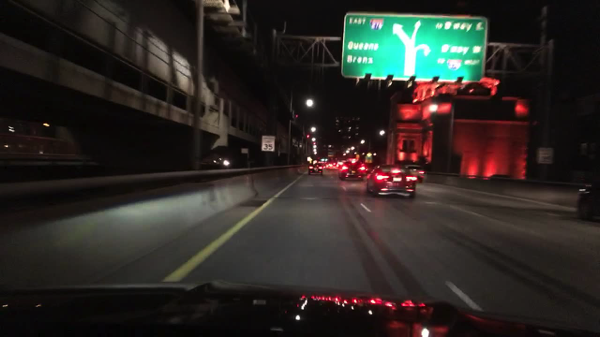car: (365, 164, 418, 200), (574, 178, 599, 223), (198, 151, 235, 170), (338, 159, 365, 182), (403, 164, 425, 184), (308, 161, 323, 176), (336, 161, 344, 168), (322, 163, 329, 170), (330, 162, 336, 168)
traffic light: (305, 134, 309, 139), (294, 114, 298, 118)
traffic sign: (340, 13, 487, 83), (536, 147, 552, 166), (261, 135, 275, 152), (365, 156, 371, 164), (240, 149, 248, 154), (367, 153, 373, 157), (328, 152, 332, 157), (356, 154, 359, 160)
truck: (0, 118, 83, 165)
